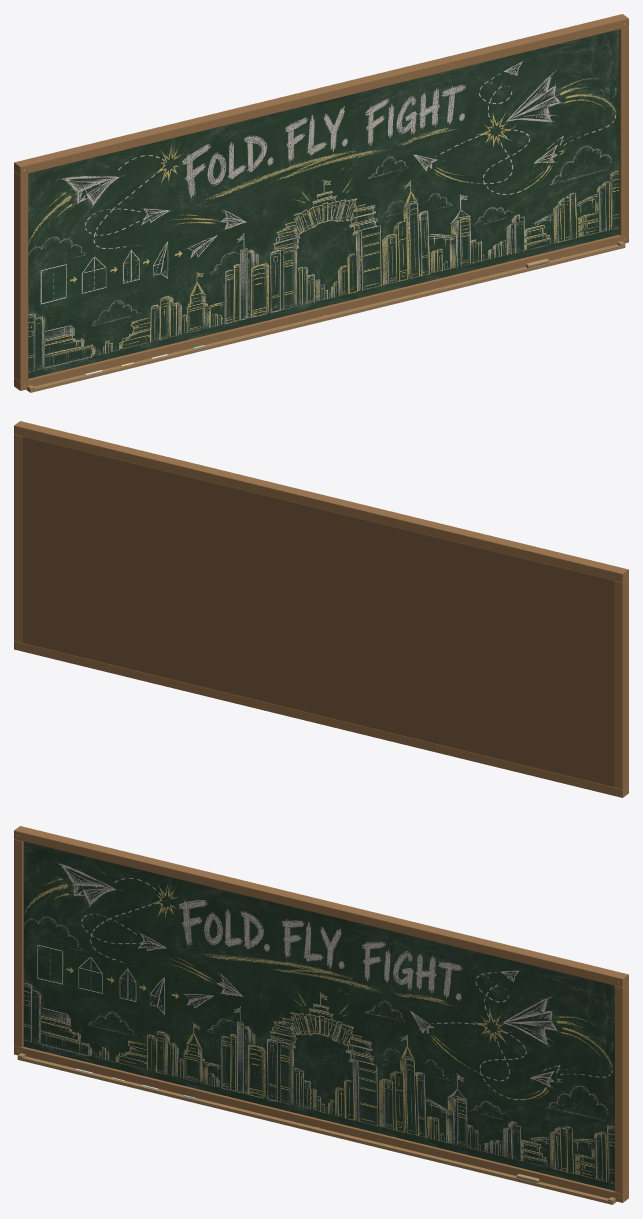
File: chalkboard460.glb
The picture shows the model from 3 angles, top to bottom: view 1: azimuth 30°, elevation 25°; view 2: azimuth 150°, elevation 25°; view 3: azimuth 330°, elevation 25°; orthographic projection.
Parts seen in each view (by area): view 1: Chalkboard460_board, Chalkboard460_frame, Chalkboard460_tray; view 2: Chalkboard460_board, Chalkboard460_frame; view 3: Chalkboard460_board, Chalkboard460_frame, Chalkboard460_tray.
Part boxes in pixels (<box>): Chalkboard460_board: <box>28,29,619,378</box>; Chalkboard460_frame: <box>14,14,628,390</box>; Chalkboard460_tray: <box>26,241,625,392</box>; Chalkboard460_board: <box>22,436,614,787</box>; Chalkboard460_frame: <box>14,421,628,797</box>; Chalkboard460_board: <box>23,841,614,1190</box>; Chalkboard460_frame: <box>14,826,628,1202</box>; Chalkboard460_tray: <box>17,1053,616,1204</box>.
Bounding box in the file's own units: 435 × 155 × 12.
Materials: 12 (1 with a texture image).
